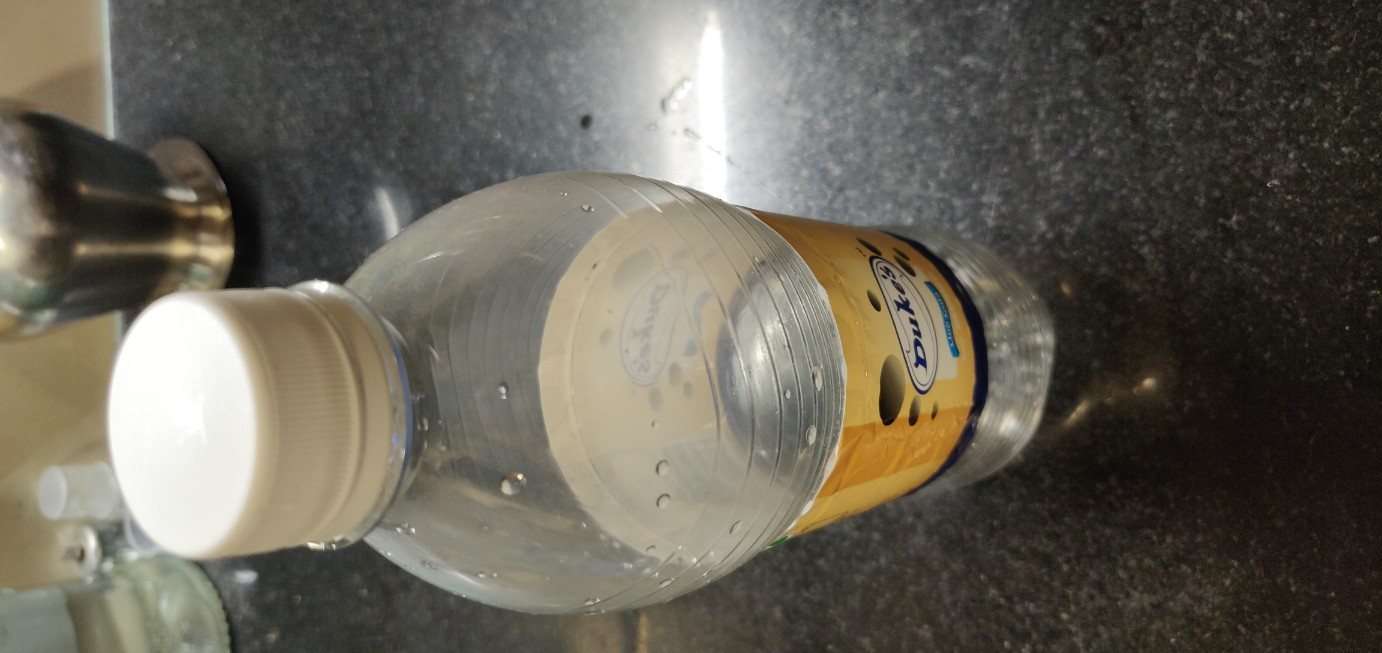Electronics: (76, 147, 1119, 631)
